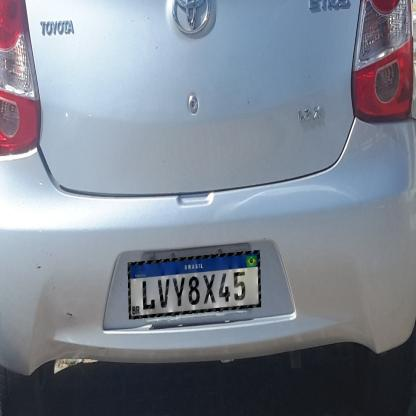PlacaM: (128, 250, 261, 320)
